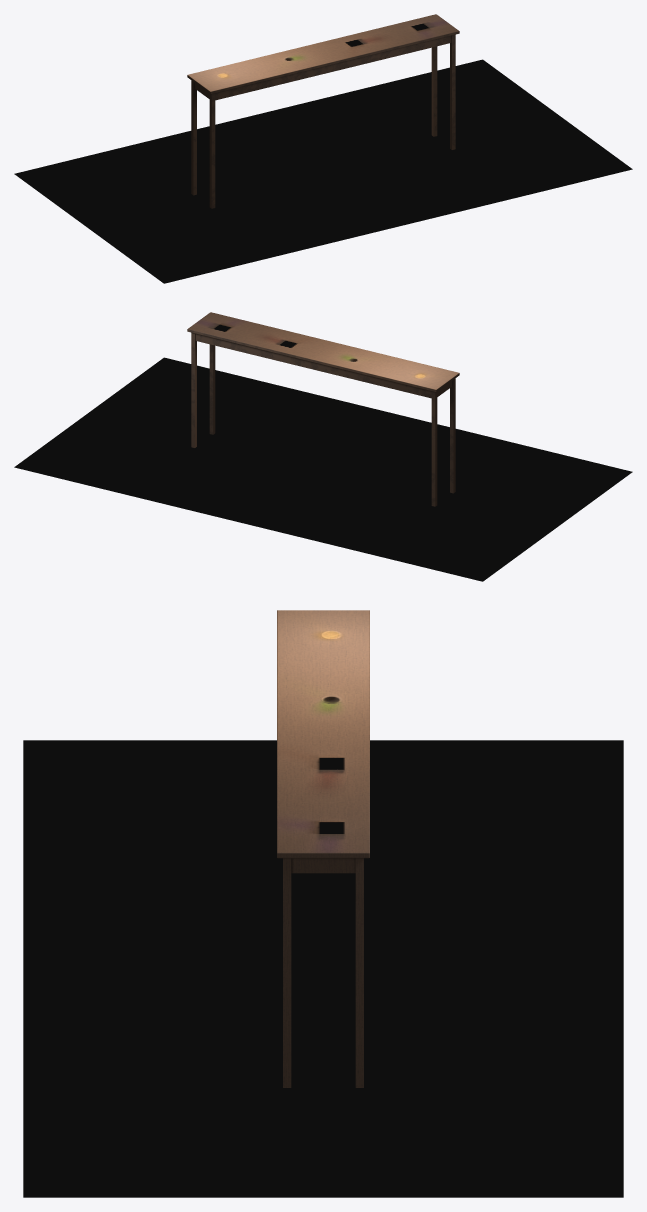
File: 817_hyd.glb
The picture shows the model from 3 angles, top to bottom: view 1: azimuth 30°, elevation 25°; view 2: azimuth 150°, elevation 25°; view 3: azimuth 270°, elevation 25°; orthographic projection. The views are drawn at different scales.
Parts seen in each view (by area): view 1: Shadow, Table; view 2: Shadow, Table; view 3: Shadow, Table.
Boxes of the visible parts, <box> form: Shadow: <box>14,59,632,283</box>; Table: <box>187,14,459,208</box>; Shadow: <box>14,357,632,581</box>; Table: <box>187,312,459,506</box>; Shadow: <box>23,740,623,1197</box>; Table: <box>277,610,369,1087</box>.
Size of the model in its own units: 12.8 by 3.1 by 7.1.
Materials: 2 (2 with a texture image).
